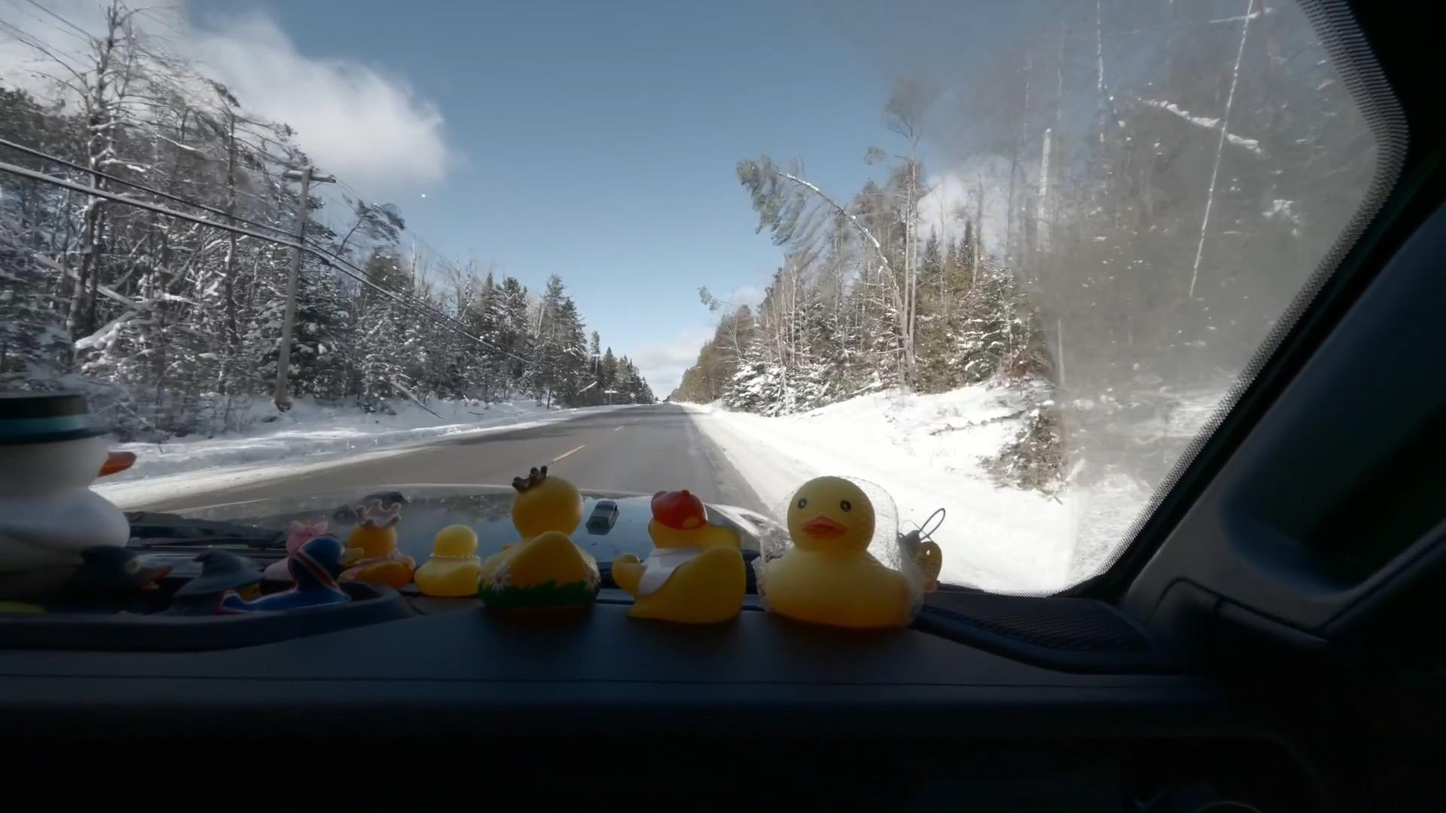Snow: (692, 403, 1112, 593), (106, 400, 643, 501)
dry: (128, 403, 779, 518)
